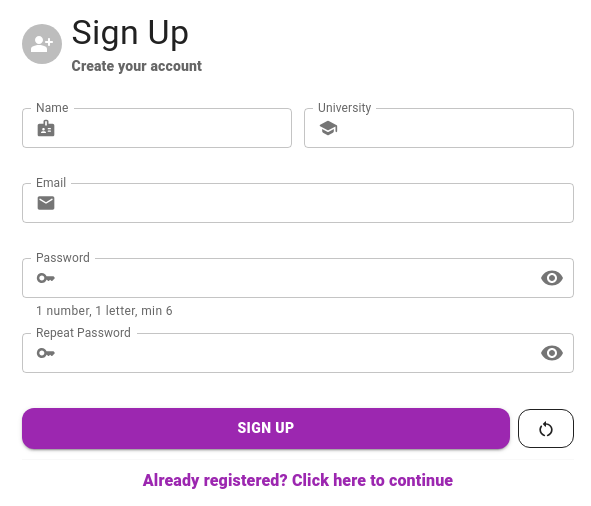
it: SignUpForm › prevents submit on invalid input and shows validation messages
Click the button "Sign Up".
click(266, 429)  # box [22, 408, 510, 449]
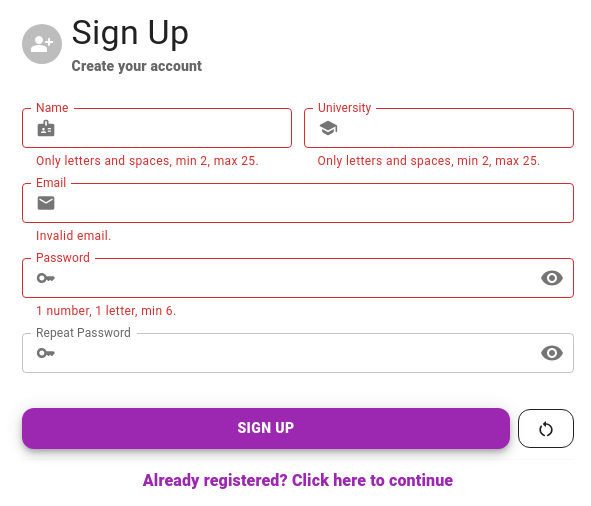
expect the text "Only letters and spaces, min 2, max 25." is shown 2 times: met, box [36, 152, 278, 172]; [318, 152, 560, 172]
expect the text "Invalid email." is shown: met, box [36, 229, 112, 243]
expect the text "1 number, 1 letter, min 6." is shown: met, box [36, 304, 176, 318]
